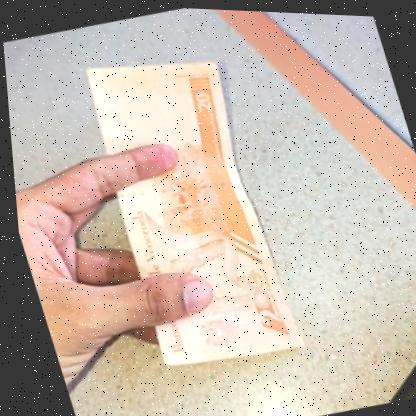twenty-back-vef: (71, 37, 301, 377)
